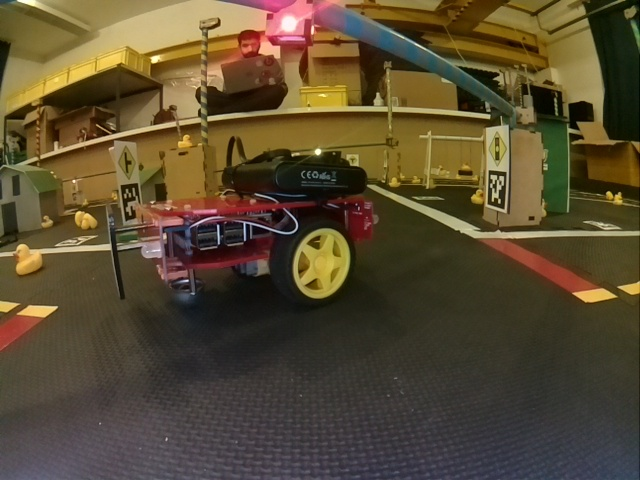Duckie: (15, 248, 43, 275), (81, 212, 97, 230), (43, 215, 55, 228), (177, 134, 192, 144), (472, 191, 483, 204), (391, 177, 400, 187), (615, 194, 623, 204), (411, 175, 421, 183), (605, 190, 611, 200)
Duckiebot: (106, 188, 374, 308)
Intersection sign: (117, 149, 137, 176)
QR code: (120, 183, 141, 221), (489, 171, 508, 210), (585, 217, 618, 232)
Signal sign: (487, 130, 508, 164)
Traffic light: (268, 8, 316, 47)
